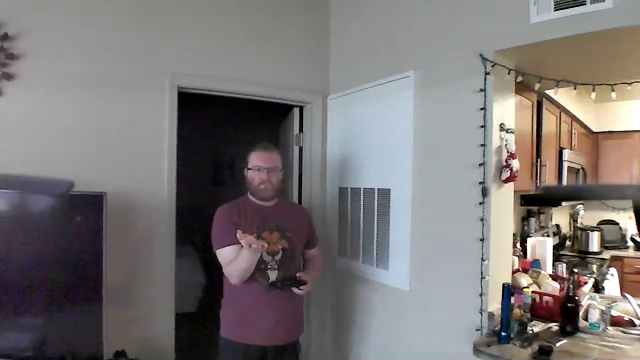land: (234, 226, 272, 253)
